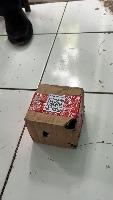damaged package: (60, 114, 78, 132), (41, 129, 49, 139), (68, 141, 78, 149)
undamaged: (22, 82, 86, 150)
